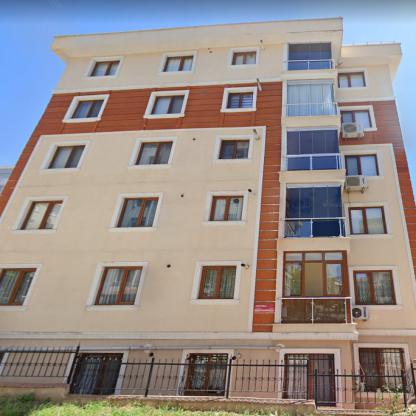window: (285, 183, 341, 236), (283, 252, 348, 296), (286, 354, 332, 404), (68, 353, 123, 394), (182, 353, 226, 395), (361, 349, 404, 391), (286, 80, 335, 115), (92, 267, 139, 303), (116, 196, 160, 228), (18, 201, 64, 231), (357, 272, 397, 304), (288, 128, 337, 154), (2, 269, 34, 304), (200, 265, 235, 297), (351, 208, 387, 235), (289, 42, 331, 62), (49, 145, 85, 167), (138, 141, 172, 163), (210, 196, 242, 218), (151, 94, 184, 114), (346, 154, 376, 176), (70, 99, 104, 118), (341, 110, 374, 128), (219, 139, 248, 158), (226, 92, 253, 108), (164, 56, 192, 70), (90, 61, 120, 74), (339, 73, 363, 87), (232, 51, 255, 64)
